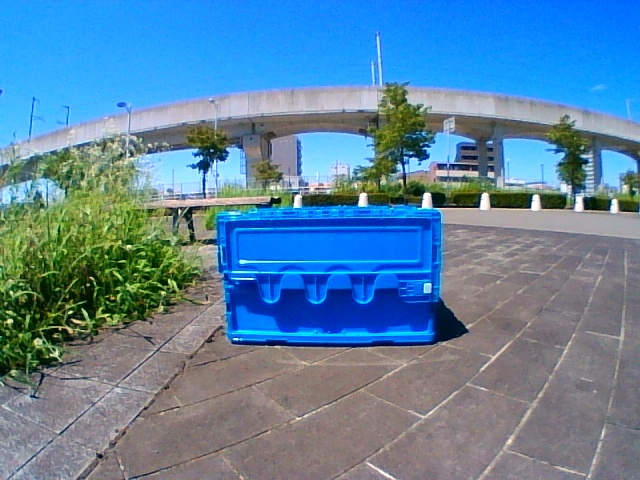blue_box: (228, 211, 433, 340)
